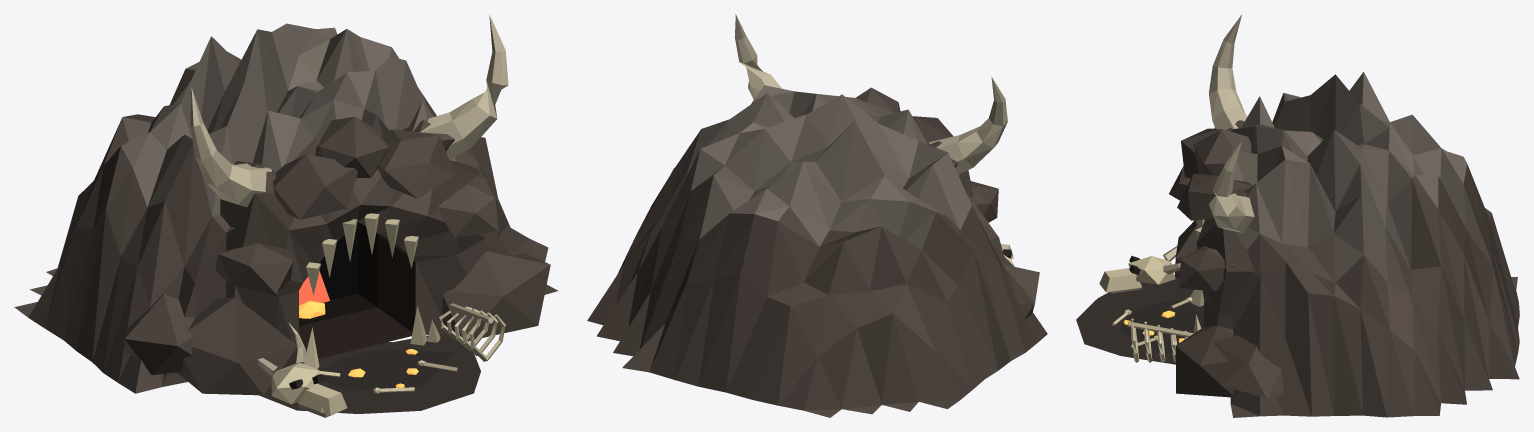
Rendered from dragon_lair.glb.
The picture shows the model from 3 angles, left to right: view 1: azimuth 30°, elevation 25°; view 2: azimuth 150°, elevation 25°; view 3: azimuth 270°, elevation 25°; orthographic projection. The views are drawn at different scales.
Visible parts, largest first — view 1: dragon_lair; view 2: dragon_lair; view 3: dragon_lair.
Part boxes in pixels (bbox=[...]): dragon_lair: bbox=[14, 14, 558, 417]; dragon_lair: bbox=[587, 14, 1047, 417]; dragon_lair: bbox=[1076, 15, 1519, 417].
Size of the model in its own units: 14.9 by 9.46 by 15.16.
